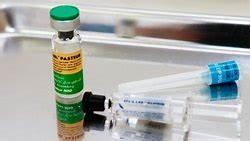Syringe: (42, 1, 88, 108), (118, 58, 242, 95)
